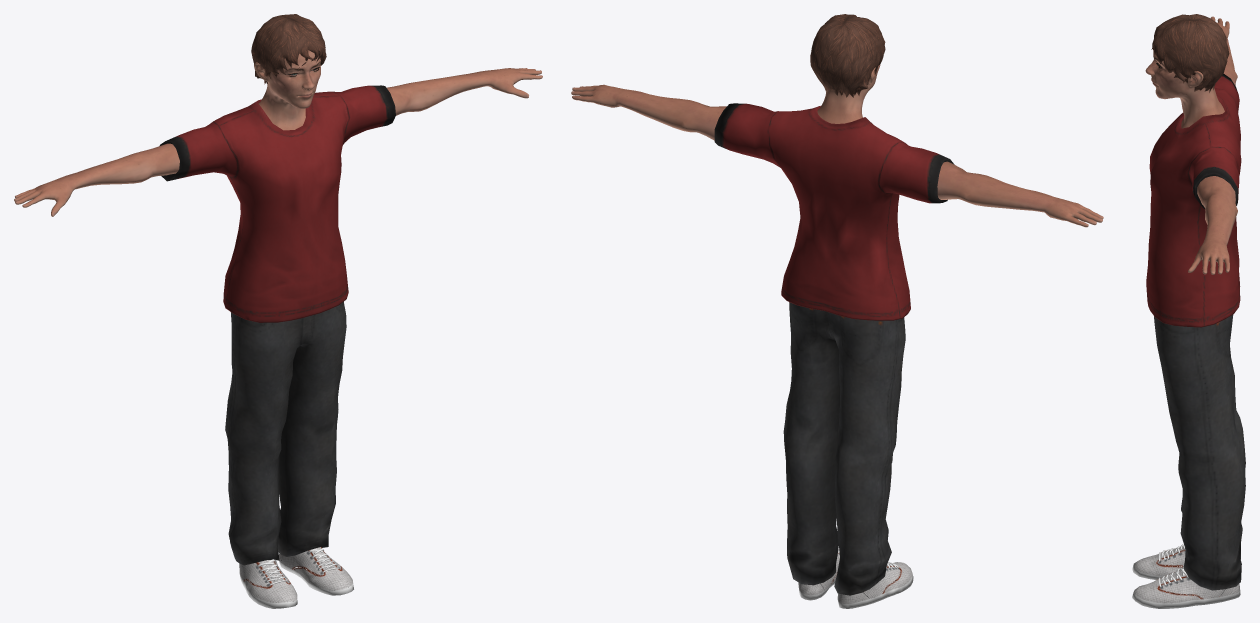
Rendered from BOY.dae.
The picture shows the model from 3 angles, left to right: view 1: azimuth 30°, elevation 25°; view 2: azimuth 150°, elevation 25°; view 3: azimuth 270°, elevation 25°; orthographic projection.
Visible parts, largest first — view 1: 2; view 2: 2; view 3: 2.
Part boxes in pixels (left/top/right/bottom): 2: left=14, top=14, right=542, bottom=608; 2: left=571, top=14, right=1103, bottom=608; 2: left=1132, top=14, right=1245, bottom=608.
Bounding box in the file's own units: 33 × 6.12 × 33.77.
1 material, 1 textured.
